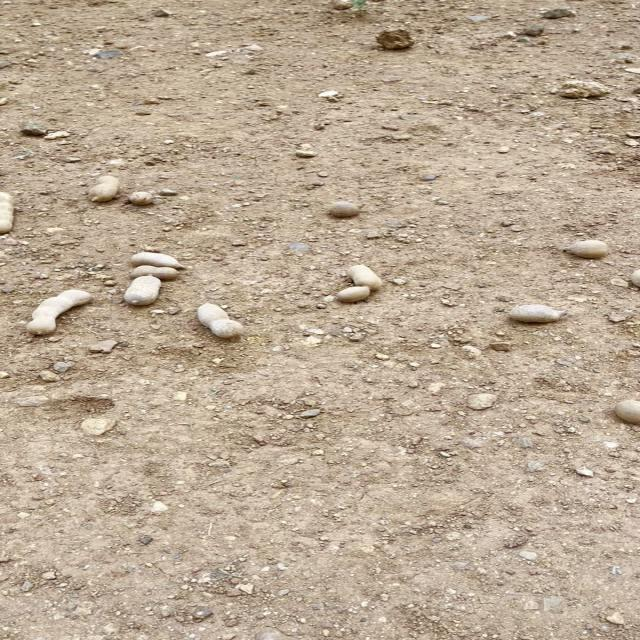tamarind: (28, 286, 94, 334), (190, 299, 246, 337), (508, 300, 570, 323), (122, 249, 189, 268), (340, 261, 384, 287), (564, 234, 618, 255), (126, 275, 161, 305), (84, 172, 118, 201), (0, 193, 22, 235), (329, 202, 360, 216)
